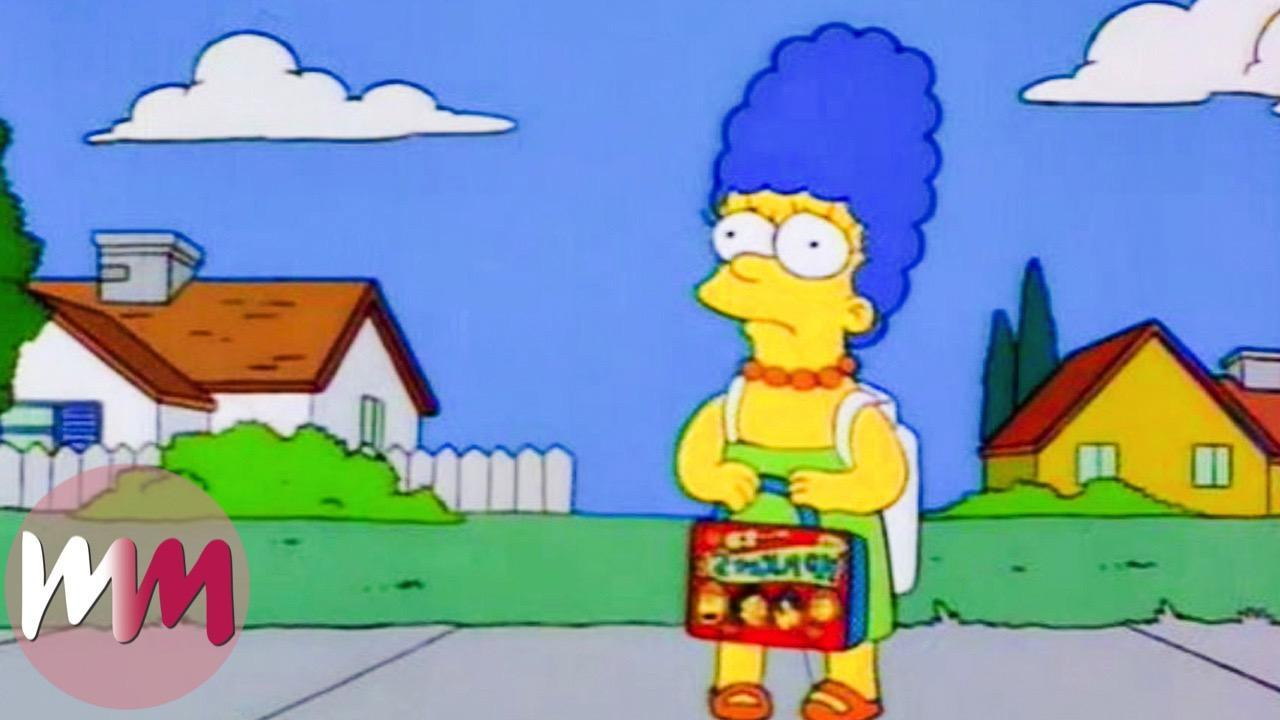Marge: (643, 20, 987, 720)
